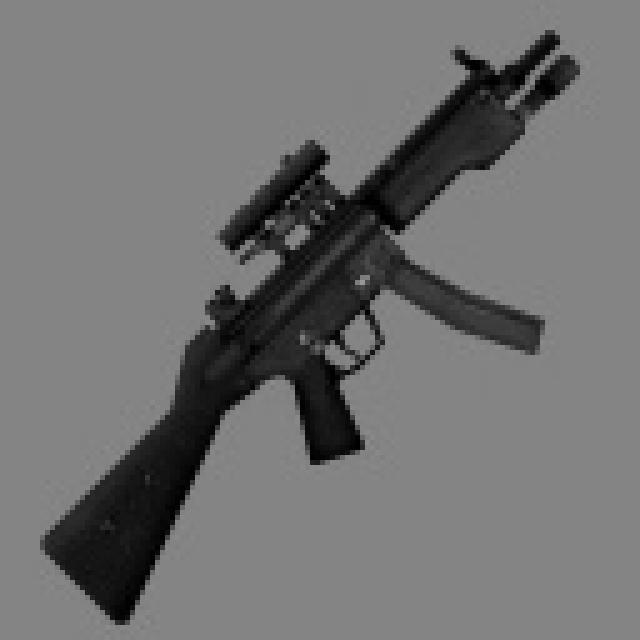Rifle: (10, 4, 640, 640)
